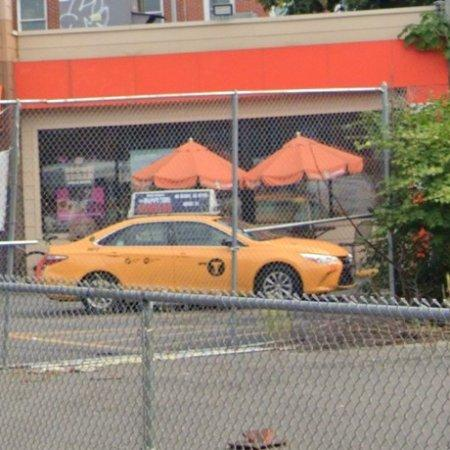taxis: (35, 215, 232, 292), (239, 230, 355, 299)
